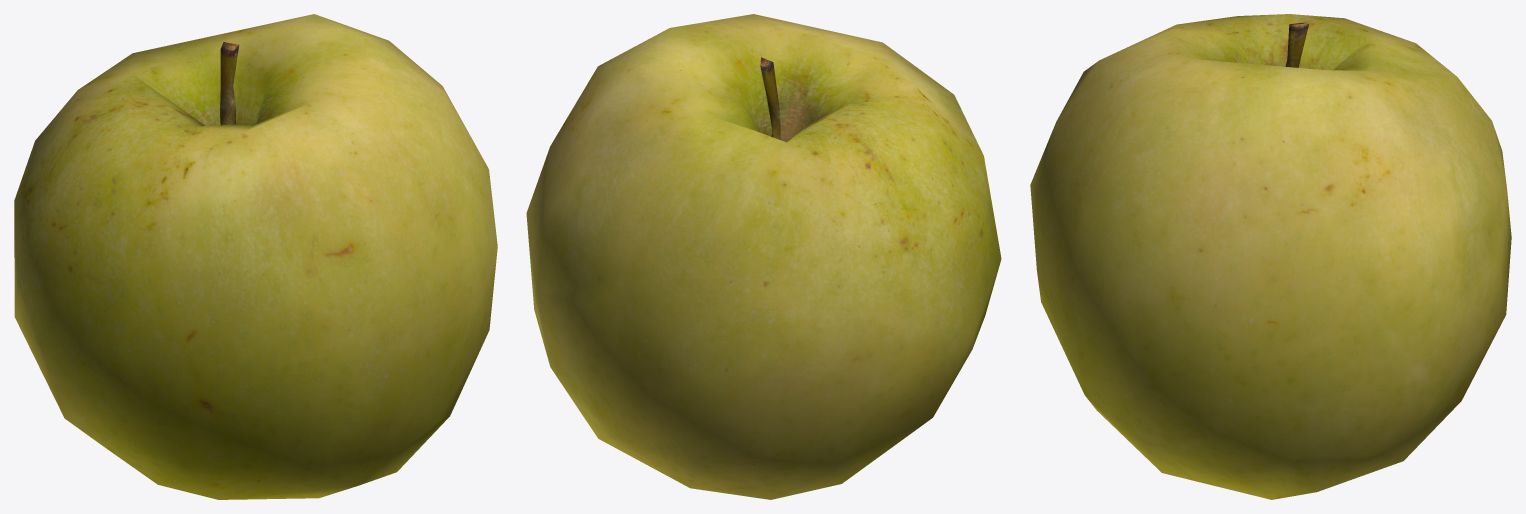
Rendered from apple_td3nedtla_low.glb.
3 renders of one model, left to right at view 1: azimuth 30°, elevation 25°; view 2: azimuth 150°, elevation 25°; view 3: azimuth 270°, elevation 25°, orthographic. The views are drawn at different scales.
Parts seen in each view (by area): view 1: td3nedtla_LOD0_TIER3_000; view 2: td3nedtla_LOD0_TIER3_000; view 3: td3nedtla_LOD0_TIER3_000.
Part boxes in pixels (x1=…): td3nedtla_LOD0_TIER3_000: x1=14, y1=14, x2=497, y2=499; td3nedtla_LOD0_TIER3_000: x1=526, y1=14, x2=1001, y2=499; td3nedtla_LOD0_TIER3_000: x1=1030, y1=14, x2=1511, y2=499.
Bounding box in the file's own units: 0.106 × 0.1009 × 0.1039.
Materials: 1 (1 with a texture image).
